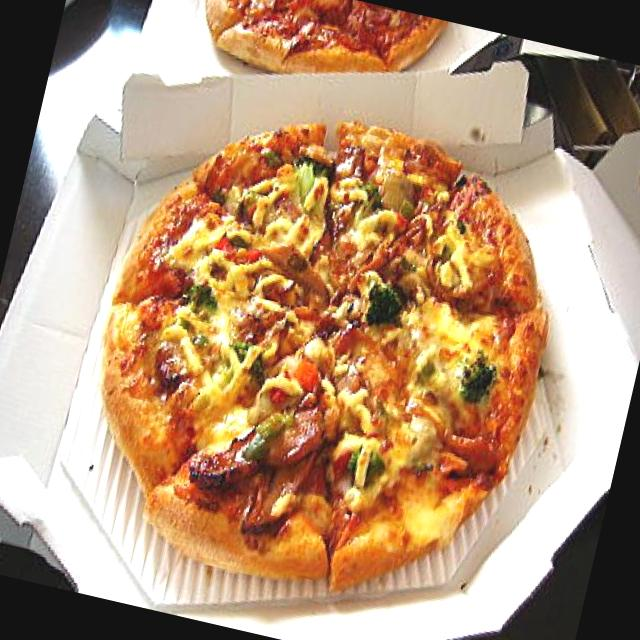Pizza: (50, 66, 592, 634)
